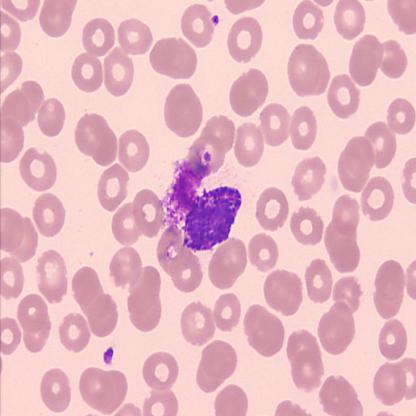Basophil: (180, 182, 244, 256)
